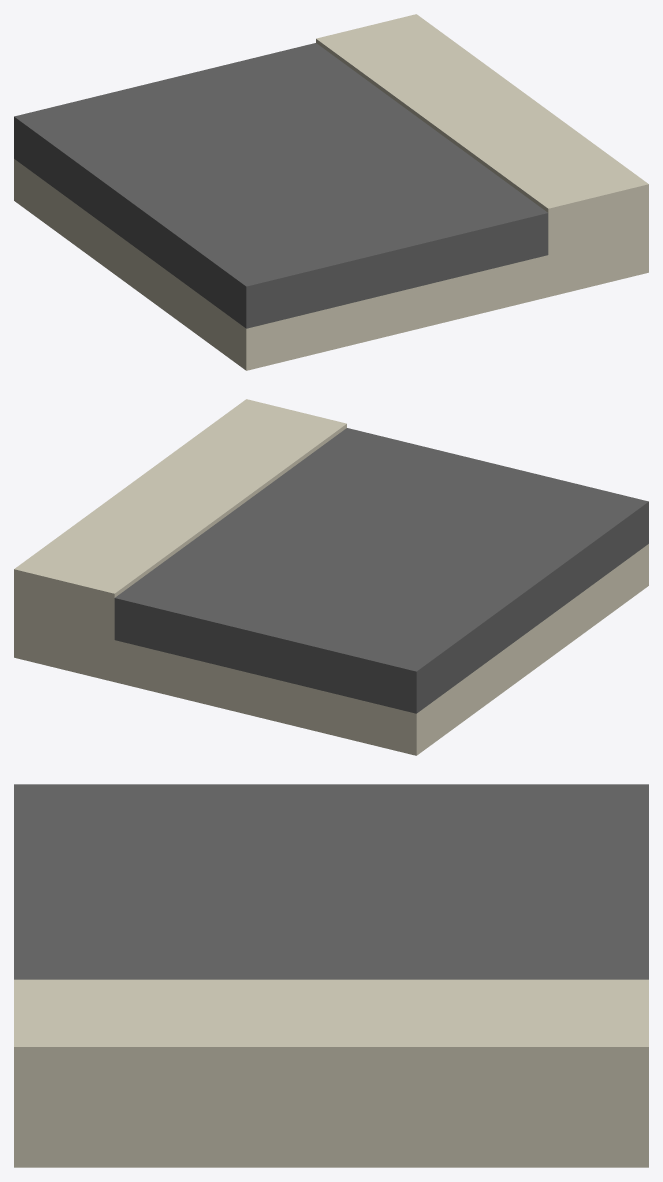
File: tile025.fbx
3 views of the same model, one above another, from view 1: azimuth 30°, elevation 25°; view 2: azimuth 150°, elevation 25°; view 3: azimuth 270°, elevation 25° (orthographic). The views are drawn at different scales.
Parts seen in each view (by area): view 1: tile025; view 2: tile025; view 3: tile025.
Part boxes in pixels (left/top/right/bottom): tile025: left=14, top=14, right=648, bottom=370; tile025: left=14, top=399, right=648, bottom=755; tile025: left=14, top=784, right=648, bottom=1167.
Bounding box in the file's own units: 10 × 2.1 × 10.
